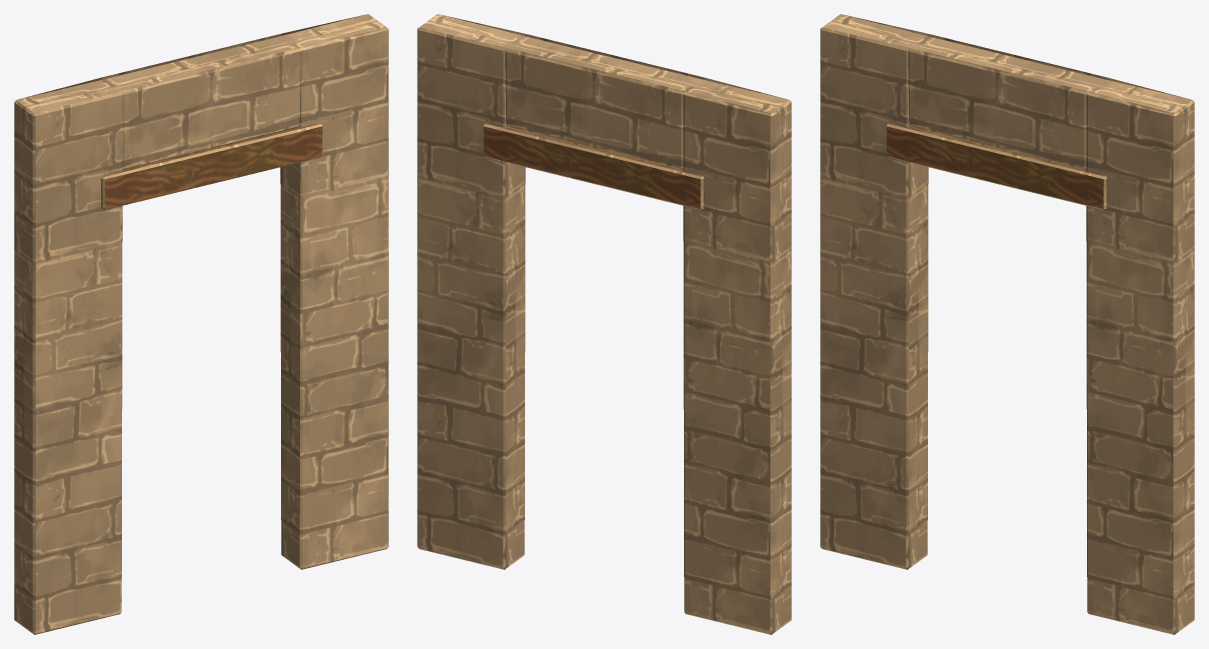
The model's file is wall_door_2m.gltf.
The picture shows the model from 3 angles, left to right: view 1: azimuth 30°, elevation 25°; view 2: azimuth 150°, elevation 25°; view 3: azimuth 330°, elevation 25°; orthographic projection.
Parts seen in each view (by area): view 1: wall_door_2m; view 2: wall_door_2m; view 3: wall_door_2m.
Boxes of the visible parts, x1,y1,x2,y2 form: wall_door_2m: [14, 14, 388, 634]; wall_door_2m: [417, 14, 791, 634]; wall_door_2m: [820, 14, 1194, 634].
Bounding box in the file's own units: 2 × 2.81 × 0.24.
Materials: 2 (2 with a texture image).
